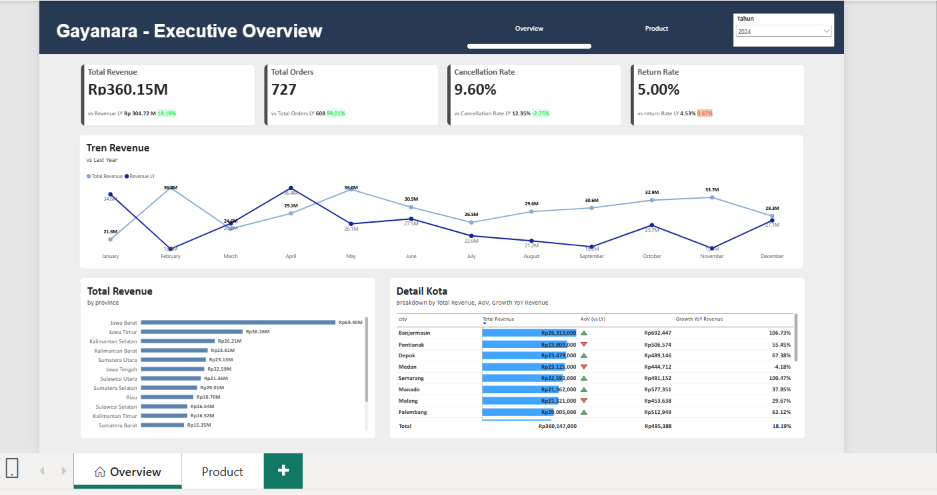

Layout of this report page (visuals, bound fields, positions):
{"tool":"powerbi","page":{"name":"Overview","canvas":[1920,1080],"ordinal":0},"visuals":[{"type":"shape","box":[0,0,1920,127.5],"z":0},{"type":"textbox","box":[40,47.5,702.5,60],"z":1000},{"type":"lineChart","title":"Tren Revenue","fields":{"Category":["date_table.year Hierarchy.year","date_table.year Hierarchy.quarter","date_table.year Hierarchy.month_name"],"Y":["_Measure.Total Revenue","_Measure.Revenue LY"]},"box":[96,320,1728,320],"z":3000},{"type":"tableEx","title":"Detail Kota","fields":{"Values":["customers.city","_Measure.Total Revenue","_Measure.Average Of Order","_Measure.Growth YoY Revenue"]},"box":[834.2,660.9,992,384],"z":4000},{"type":"barChart","fields":{"Category":["customers.province"],"Y":["_Measure.Total Revenue"]},"box":[98.2,660.9,704,384],"z":5000},{"type":"cardVisual","fields":{"Data":["_Measure.Total Revenue","_Measure.Total Orders","_Measure.Cancellation Rate","_Measure.Return Rate"]},"box":[96.7,150,1730,150],"z":7000},{"type":"pageNavigator","box":[1020.3,30.9,600,72],"z":8500,"group":"g1"},{"type":"pageNavigator","box":[1020.3,102.9,600,12],"z":9000,"group":"g1"},{"type":"group","id":"g1","title":"Page Navigator","box":[1020.3,30.9,600,84],"z":9001},{"type":"slicer","fields":{"Values":["date_table.year Hierarchy.year"]},"box":[1655.8,31,241,78.7],"z":9002}]}

Visuals, with their boxes on the page's 1920x1080 design canvas (x1, y1, x2, y2). These are canvas units, not pixel positions in the 937x495 screenshot, which may show the page scaled, cropped or inside an application window:
shape: (x1=0, y1=0, x2=1920, y2=128)
textbox: (x1=40, y1=48, x2=742, y2=108)
"Tren Revenue" lineChart: (x1=96, y1=320, x2=1824, y2=640)
"Detail Kota" tableEx: (x1=834, y1=661, x2=1826, y2=1045)
barChart - customers.province x _Measure.Total Revenue: (x1=98, y1=661, x2=802, y2=1045)
cardVisual - _Measure.Total Revenue x _Measure.Total Orders: (x1=97, y1=150, x2=1827, y2=300)
pageNavigator: (x1=1020, y1=31, x2=1620, y2=103)
pageNavigator: (x1=1020, y1=103, x2=1620, y2=115)
"Page Navigator" group: (x1=1020, y1=31, x2=1620, y2=115)
slicer - date_table.year Hierarchy.year: (x1=1656, y1=31, x2=1897, y2=110)
